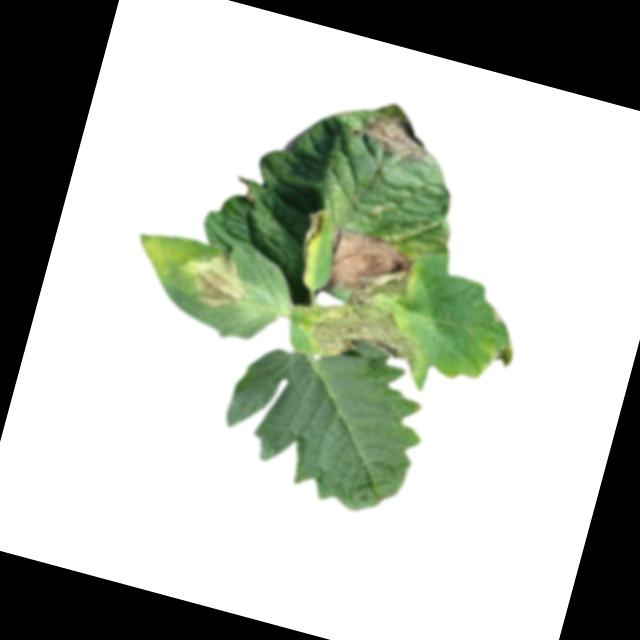Late_blight: (306, 292, 428, 378), (317, 223, 425, 317), (176, 246, 255, 317), (357, 106, 439, 165), (292, 211, 329, 276), (483, 336, 516, 373), (242, 181, 262, 204)
healthy: (209, 312, 442, 525)
